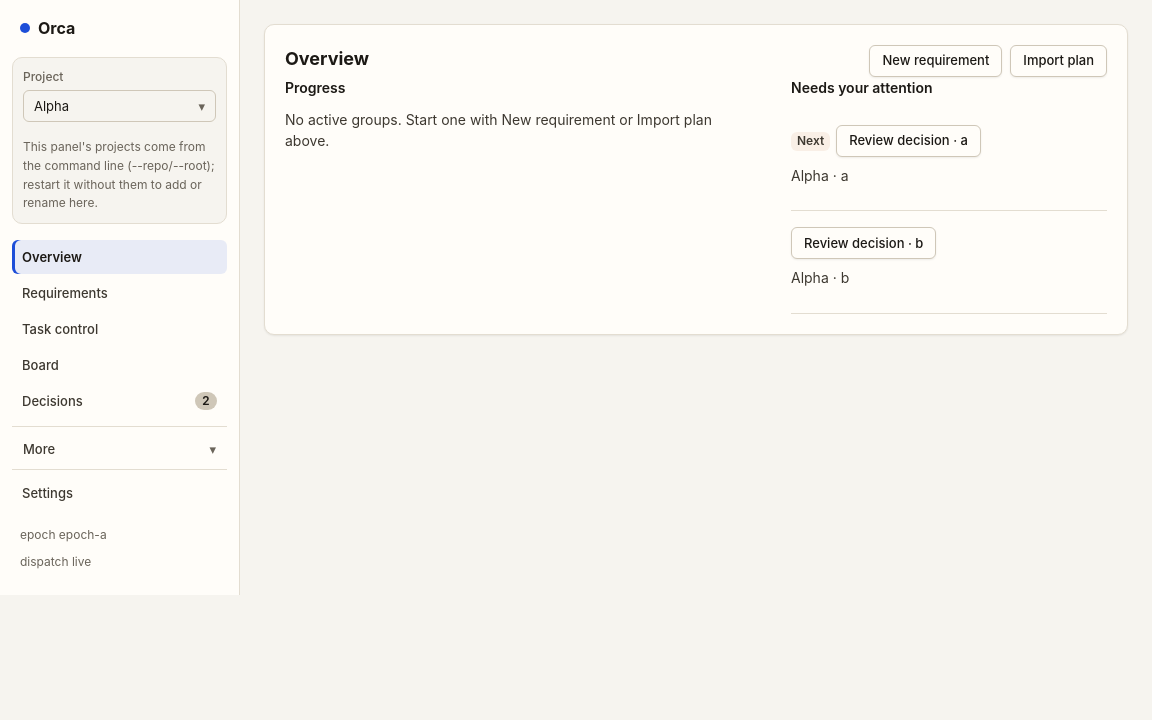
Test: removed decision owner leaves overview available with navigation failure
Click the button "Review decision · a" at (909, 141), box [836,125,981,157]
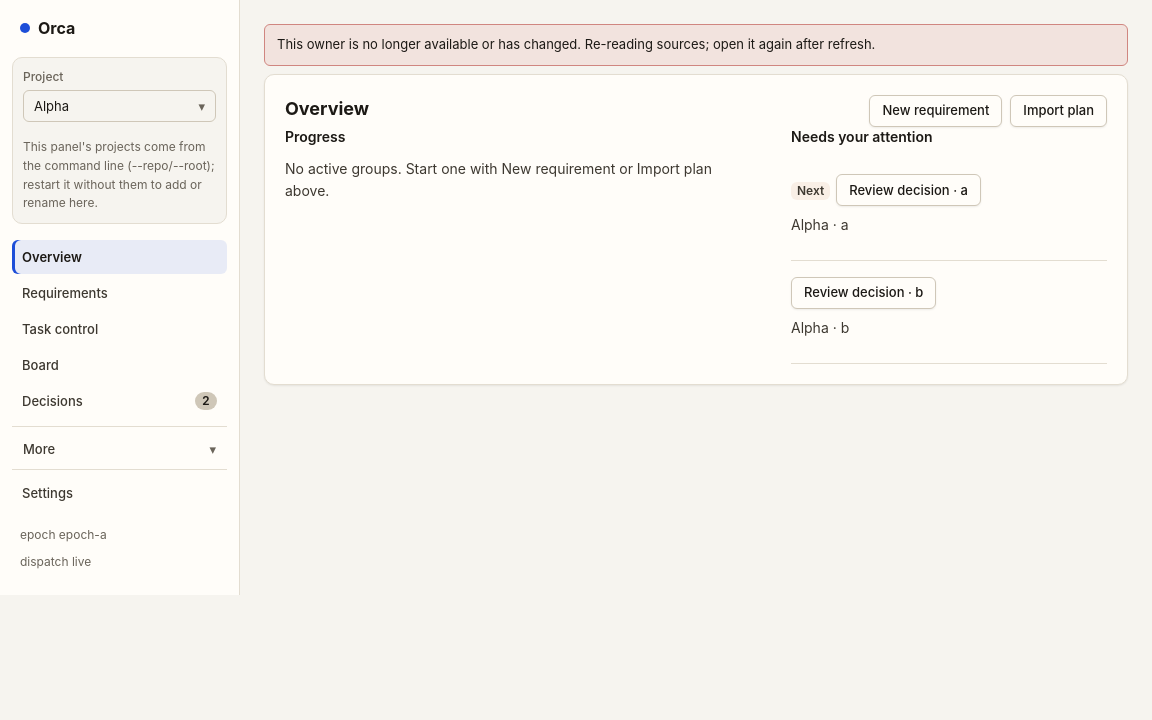
Expected: the element "Overview" is shown, [264,74,1128,385]
Expected: the message shows "no longer available", [277,36,875,52]
